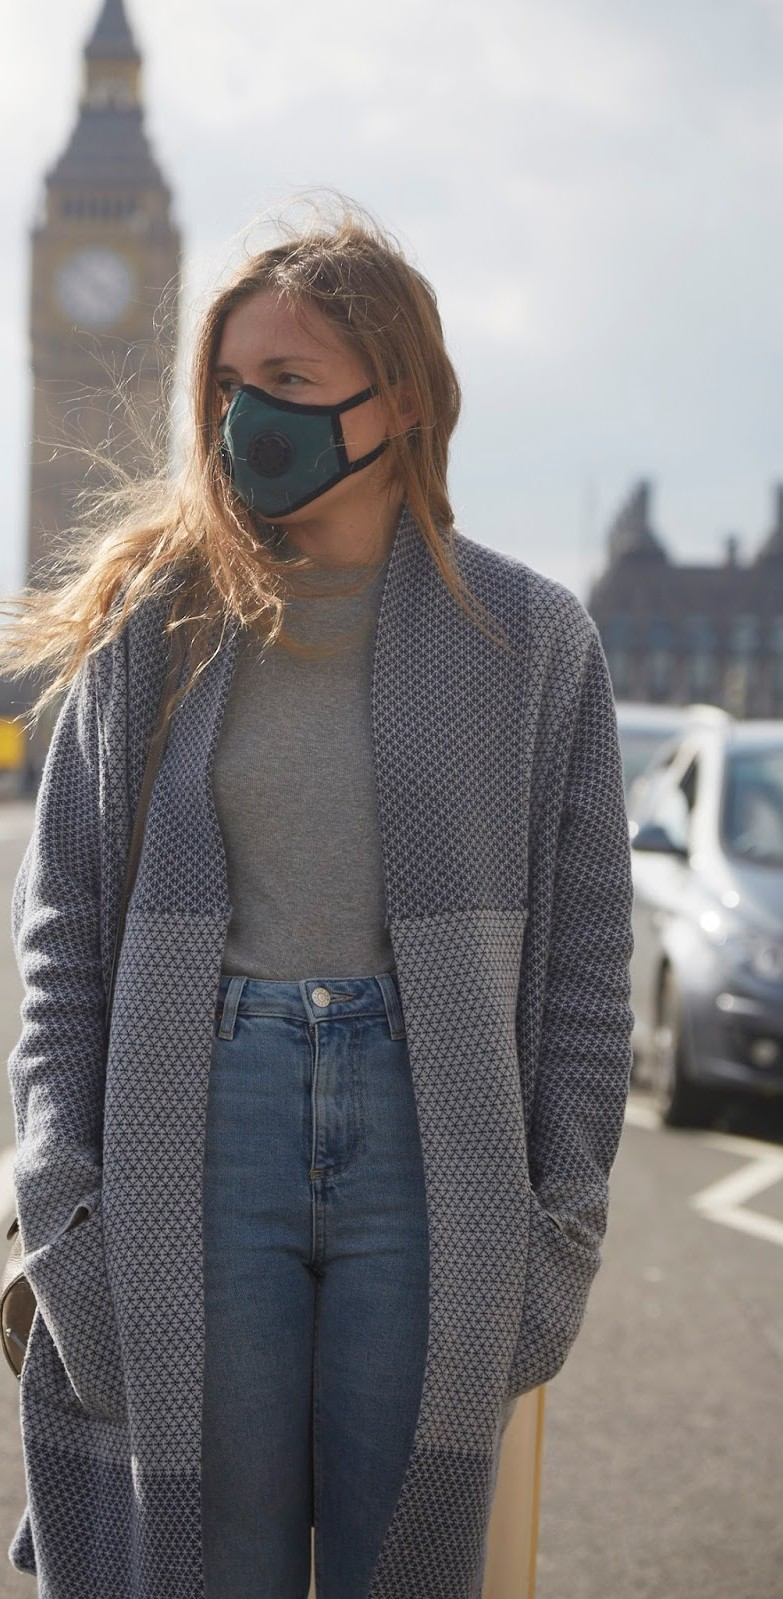with_mask: (201, 290, 425, 554)
